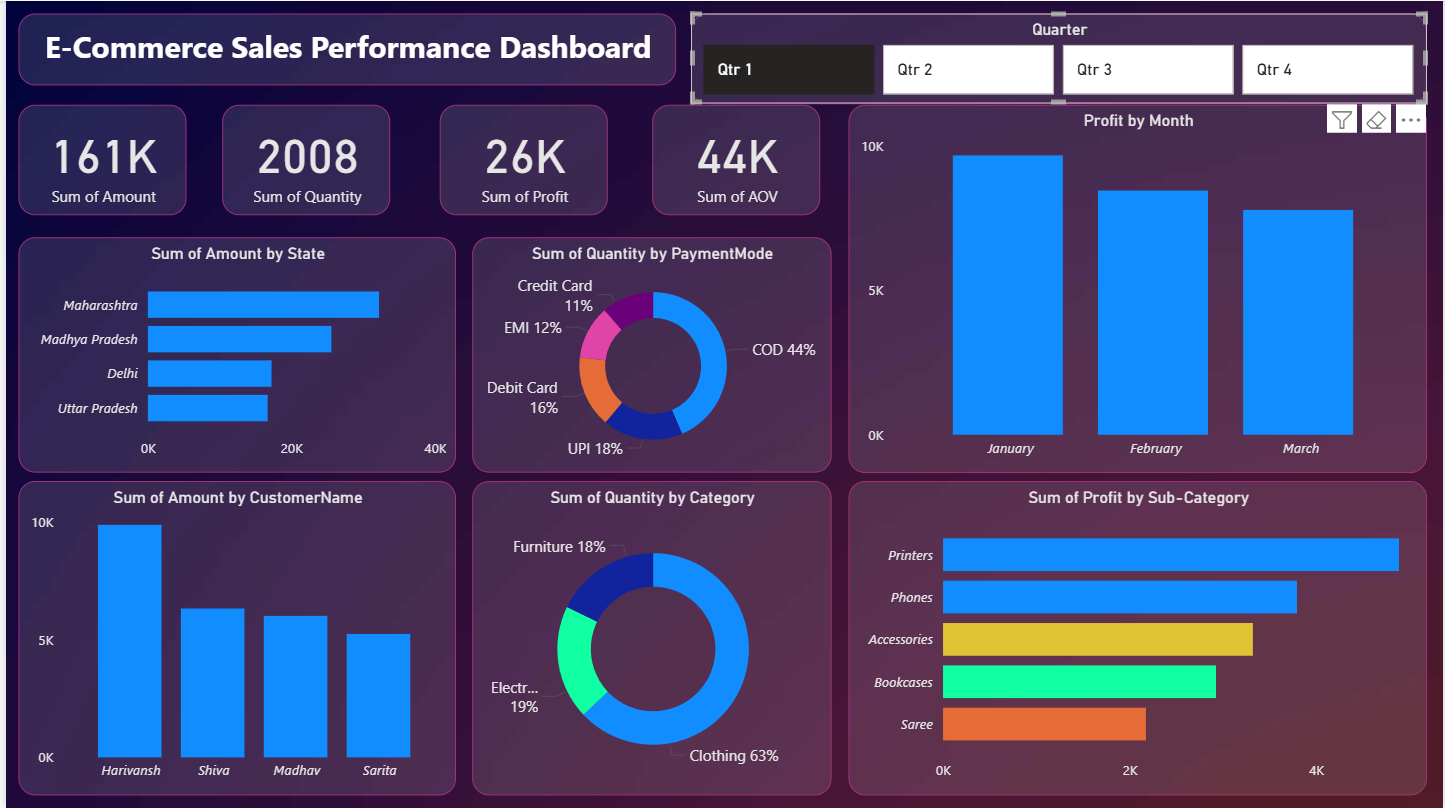

What the dashboard file says about the page in this screenshot:
{"tool":"powerbi","page":{"name":"Page 1","canvas":[1280,720],"ordinal":0},"visuals":[{"type":"textbox","box":[11.1,11.1,585.3,63.6],"z":0},{"type":"columnChart","title":"Profit by Month","fields":{"Y":["Sum(Details.Profit)"],"Category":["Orders.Order Date.Variation.Date Hierarchy.Month"]},"box":[750.8,92.3,515.4,327.7],"z":1000},{"type":"barChart","fields":{"Category":["Details.Sub-Category"],"Y":["Sum(Details.Profit)"]},"box":[750.8,427.9,515.4,279.9],"z":2000},{"type":"donutChart","fields":{"Category":["Details.Category"],"Y":["Sum(Details.Quantity)"]},"box":[415.1,427.9,319.7,279.9],"z":3000},{"type":"donutChart","fields":{"Category":["Details.PaymentMode"],"Y":["Sum(Details.Quantity)"]},"box":[415.1,210,319.7,210],"z":4000},{"type":"card","fields":{"Values":["Sum(Details.Amount)"]},"box":[11.1,92.3,149.5,98.6],"z":5000},{"type":"card","fields":{"Values":["Sum(Details.Quantity)"]},"box":[192.5,92.3,149.5,98.6],"z":6000},{"type":"card","fields":{"Values":["Sum(Details.Profit)"]},"box":[386.5,92.3,149.5,98.6],"z":7000},{"type":"card","fields":{"Values":["Sum(Details.Avg Order Value(AOV))"]},"box":[575.8,92.3,149.5,98.6],"z":8000},{"type":"barChart","fields":{"Category":["Orders.State"],"Y":["Sum(Details.Amount)"]},"box":[11.1,210,389.7,210],"z":9000},{"type":"columnChart","fields":{"Category":["Orders.CustomerName"],"Y":["Sum(Details.Amount)"]},"box":[11.1,427.9,389.7,279.9],"z":10000},{"type":"advancedSlicerVisual","fields":{"Values":["Orders.Order Date.Variation.Date Hierarchy.Quarter"]},"box":[610.8,11.1,655.3,71.6],"z":11000}]}

Visuals, with their boxes in screenshot pixels (x1, y1, x2, y2), scaled from the page's 1280x720 canvas onto the 1445x808 screenshot:
textbox: 13 12 673 84
"Profit by Month" columnChart: 848 104 1429 471
barChart - Details.Sub-Category x Sum(Details.Profit): 848 480 1429 794
donutChart - Details.Category x Sum(Details.Quantity): 469 480 830 794
donutChart - Details.PaymentMode x Sum(Details.Quantity): 469 236 830 471
card - Sum(Details.Amount): 13 104 181 214
card - Sum(Details.Quantity): 217 104 386 214
card - Sum(Details.Profit): 436 104 605 214
card - Sum(Details.Avg Order Value(AOV)): 650 104 819 214
barChart - Orders.State x Sum(Details.Amount): 13 236 452 471
columnChart - Orders.CustomerName x Sum(Details.Amount): 13 480 452 794
advancedSlicerVisual - Orders.Order Date.Variation.Date Hierarchy.Quarter: 690 12 1429 93
